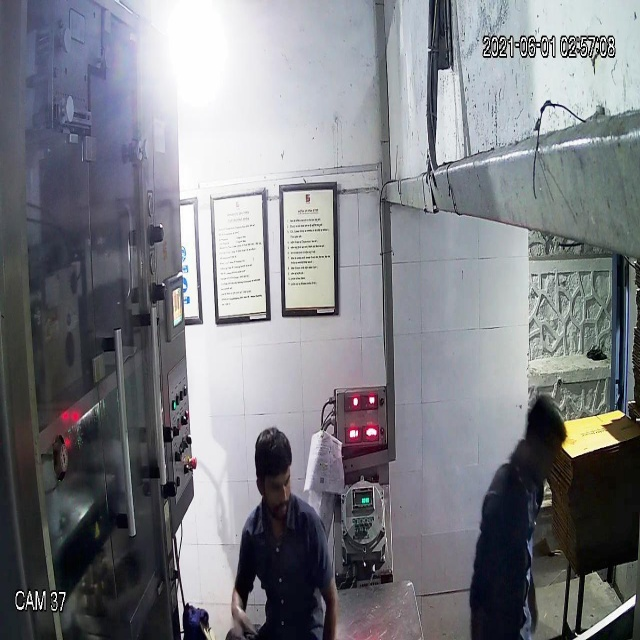Sin_gafas: (251, 467, 295, 501)
